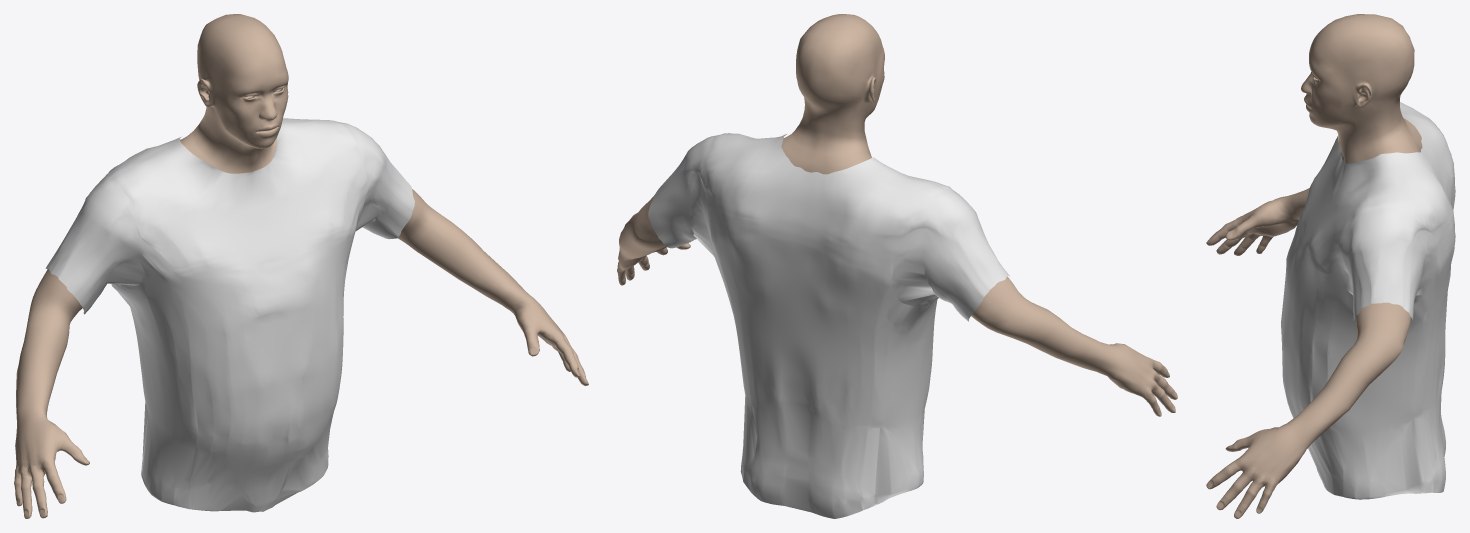
3 renders of one model, left to right at view 1: azimuth 30°, elevation 25°; view 2: azimuth 150°, elevation 25°; view 3: azimuth 270°, elevation 25°, orthographic. The views are drawn at different scales.
Visible parts, largest first — view 1: Cube.001, Base.001; view 2: Cube.001, Base.001; view 3: Cube.001, Base.001.
Boxes of the visible parts, x1,y1,x2,y2 form: Cube.001: (45,118,414,512); Base.001: (14,14,588,518); Cube.001: (648,133,1010,518); Base.001: (617,14,1177,416); Cube.001: (1281,102,1455,499); Base.001: (1206,14,1422,518).
Size of the model in its own units: 10.65 by 8.6 by 4.24.
